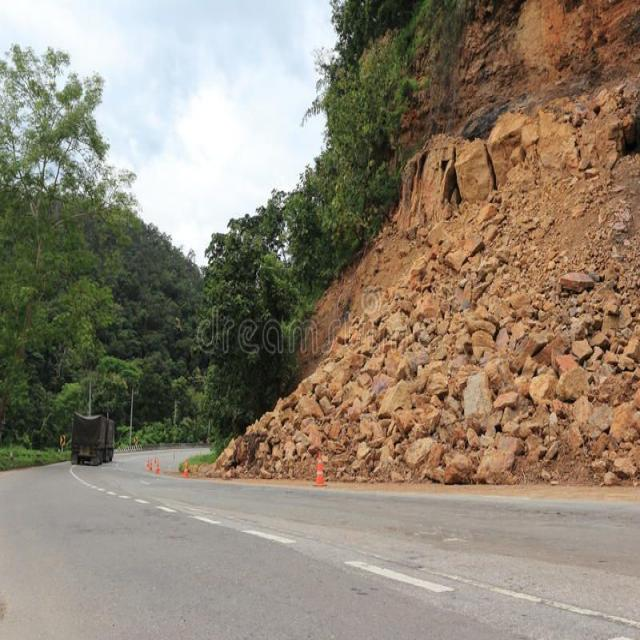landSliding: (150, 291, 640, 534)
